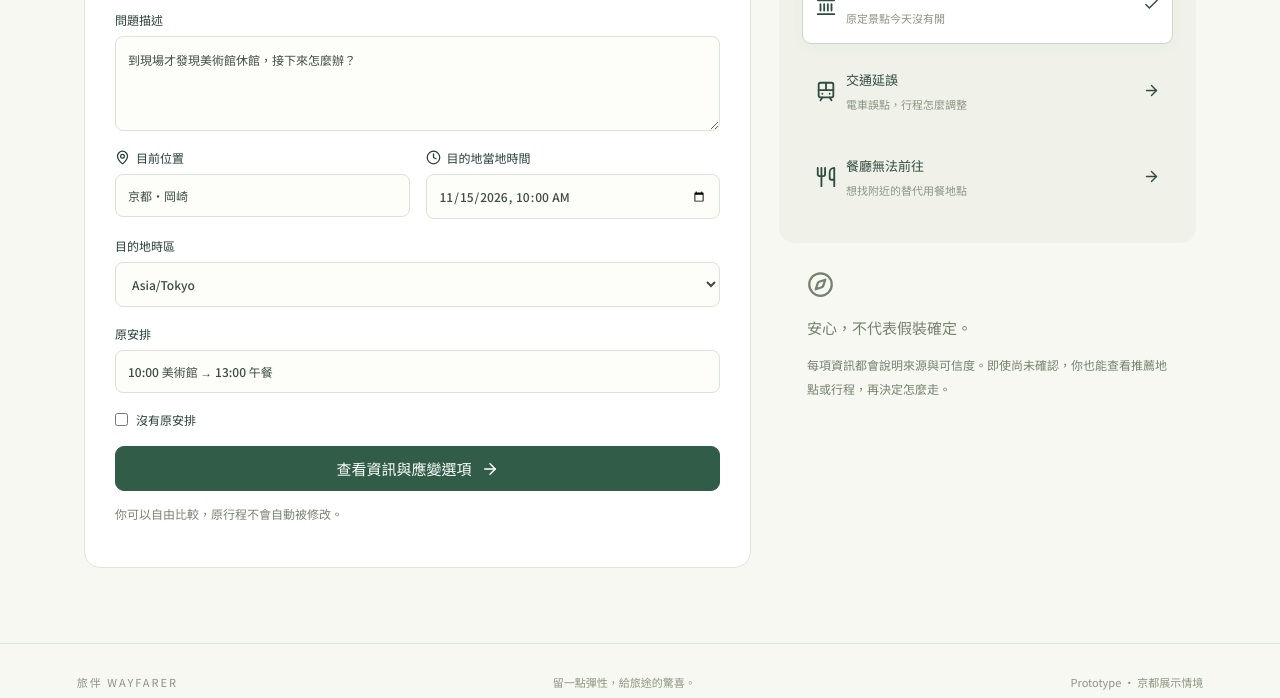
Test: keeps records when clearing is cancelled and removes them after confirmation
The image size is (1280, 698).
(page scrolled)
Click the button "查看資訊與應變選項" at x=418, y=468, box [115,446,720,491]
(page scrolled)
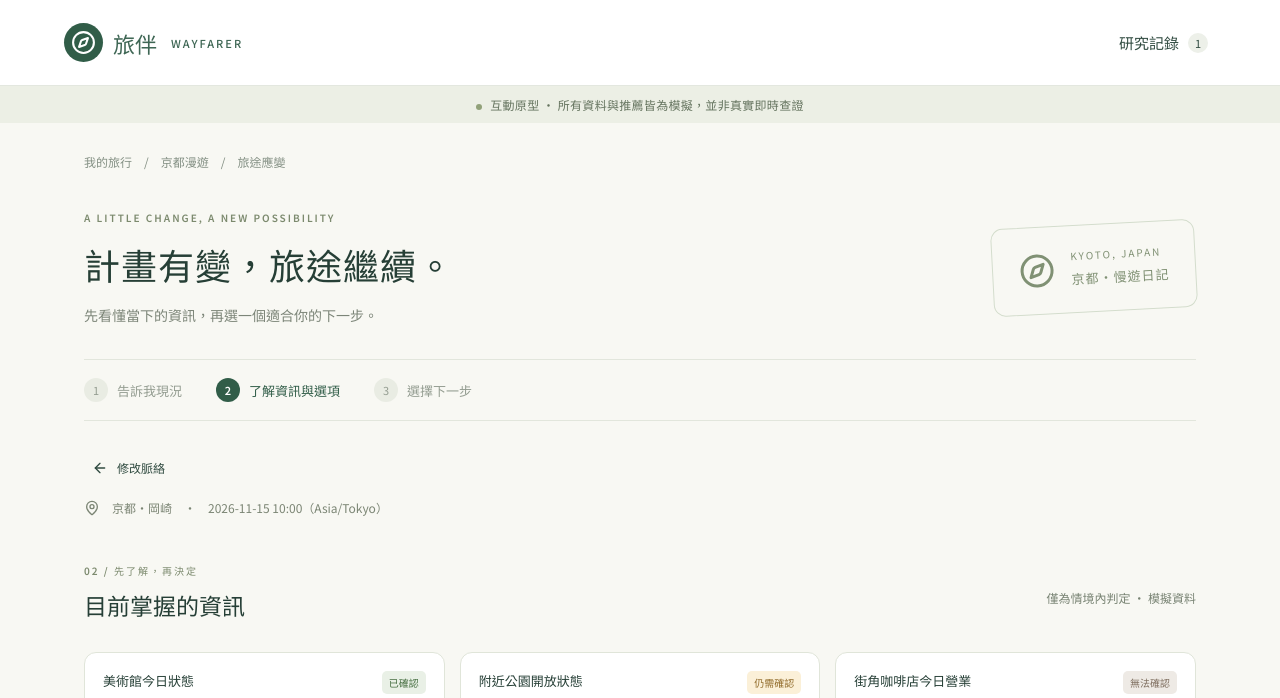
Click the button "研究記錄 1" at x=1163, y=42, box [1111,24,1216,61]
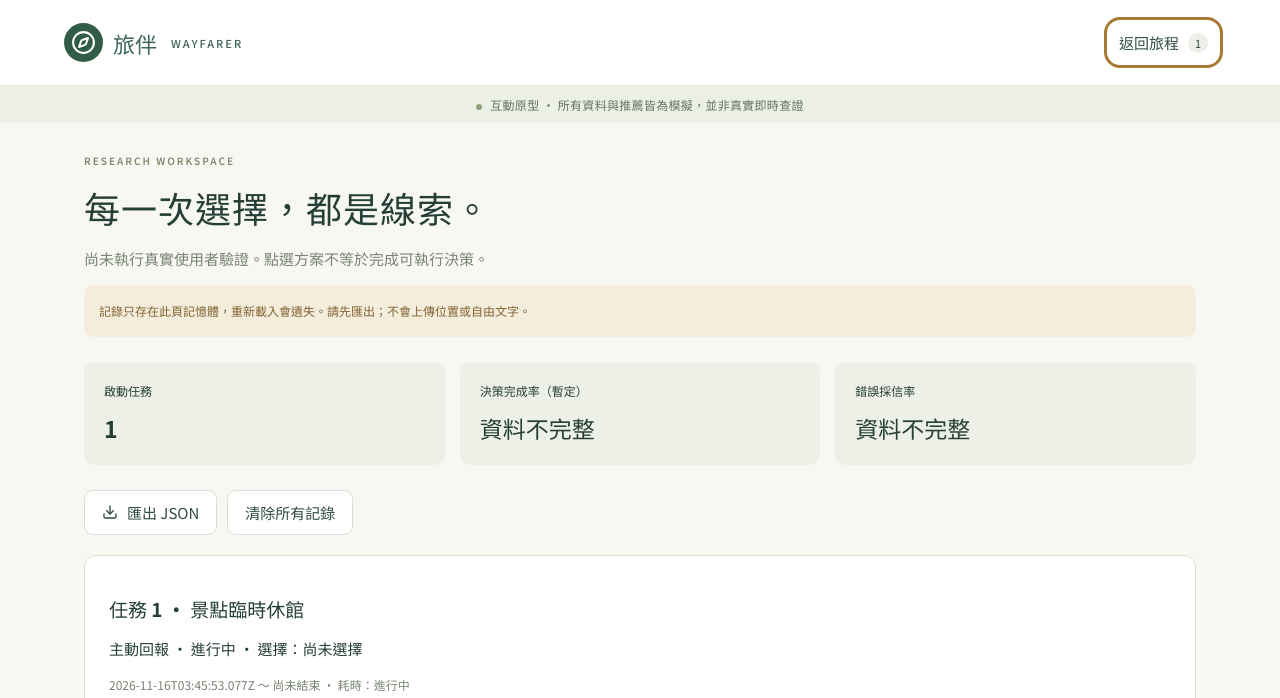
Click the button "清除所有記錄" at x=290, y=512, box [227,490,353,535]
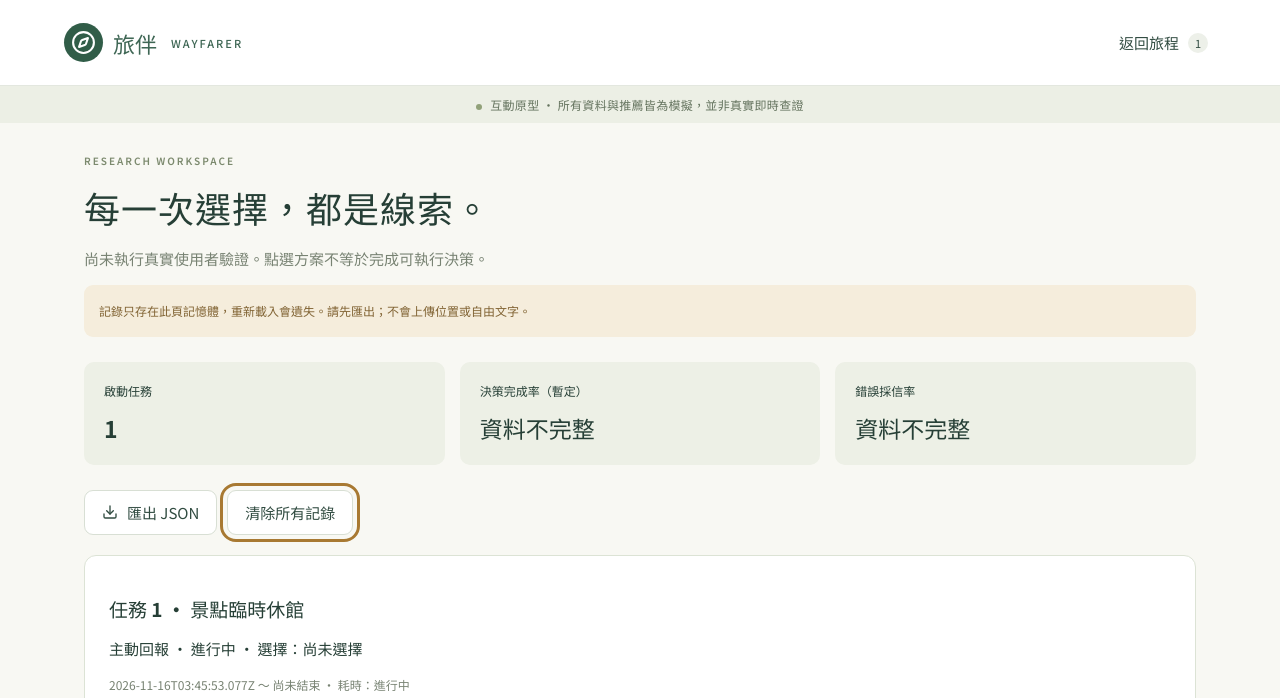
Expected: the heading "任務 1 · 景點臨時休館" is shown, [109,595,304,622]
Click the button "清除所有記錄" at x=290, y=512, box [227,490,353,535]
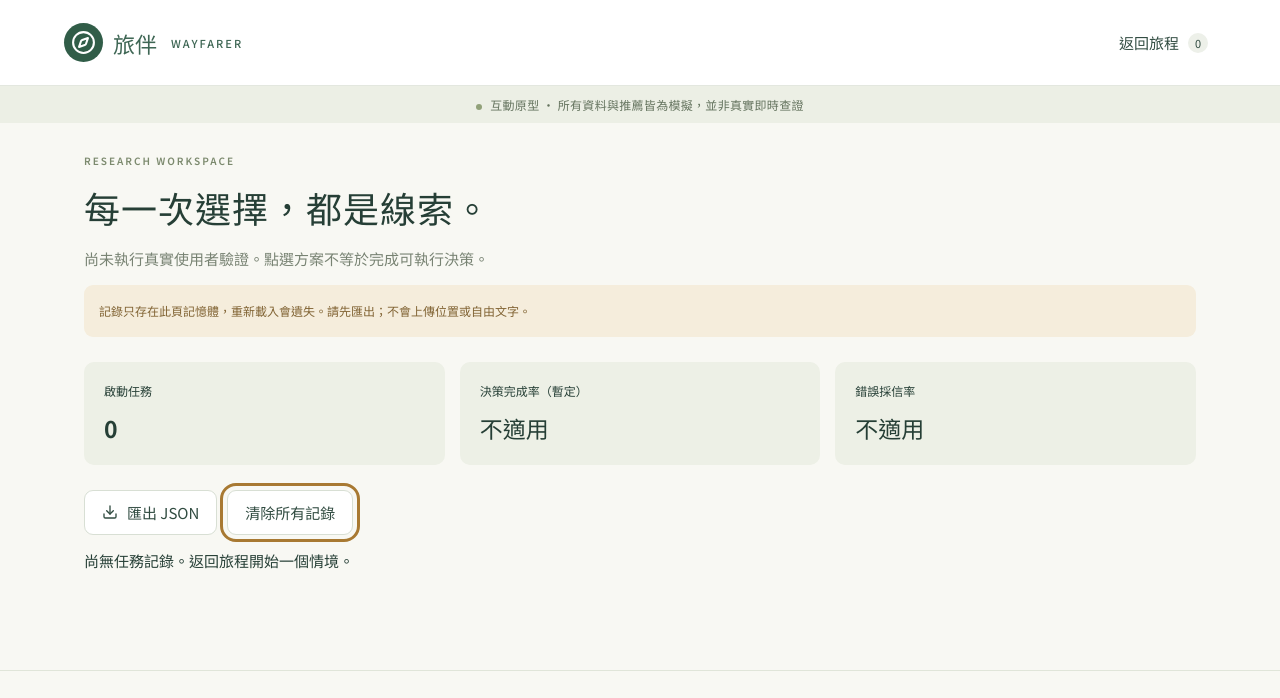
Expected: the heading "任務 1" is gone
Expected: the text "尚無任務記錄。返回旅程開始一個情境。" is shown, [84,550,354,571]
